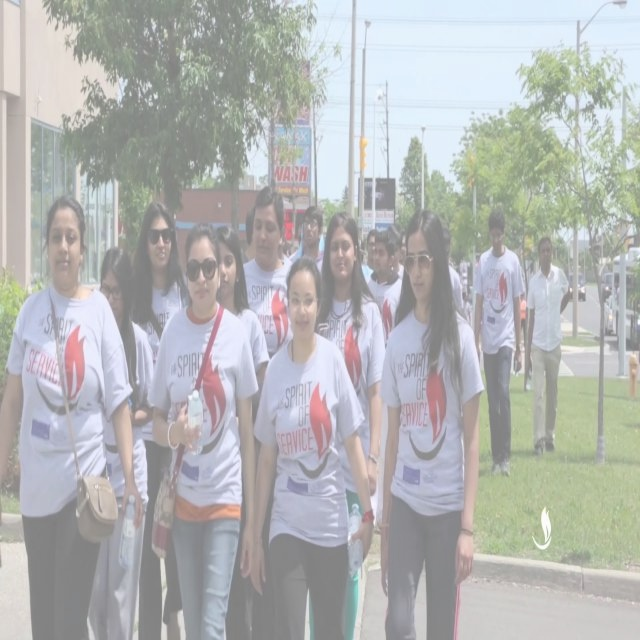pessoa: (0, 188, 144, 640), (250, 250, 374, 640), (147, 218, 260, 640), (378, 208, 486, 640), (308, 208, 388, 640), (86, 245, 156, 637), (128, 200, 190, 640), (242, 185, 294, 640), (472, 205, 525, 477), (362, 228, 404, 528), (524, 235, 571, 458), (213, 222, 271, 381), (286, 204, 328, 278), (440, 225, 464, 315), (360, 228, 380, 286), (238, 202, 256, 260), (356, 235, 374, 282), (458, 254, 480, 292), (278, 230, 294, 270), (392, 228, 405, 277), (519, 292, 527, 349), (461, 290, 472, 326), (400, 230, 408, 260), (448, 256, 456, 268)
